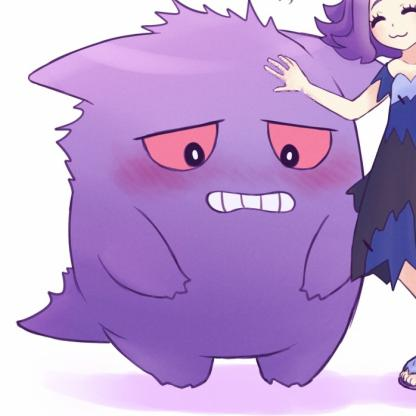Gengar: (13, 1, 369, 416)
